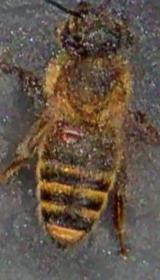varroa_mite: (50, 108, 86, 146)
